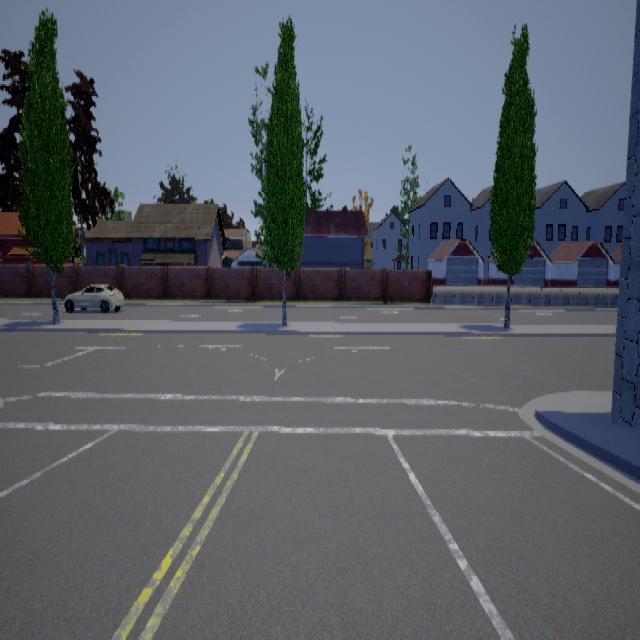vehicle: (63, 283, 124, 312)
